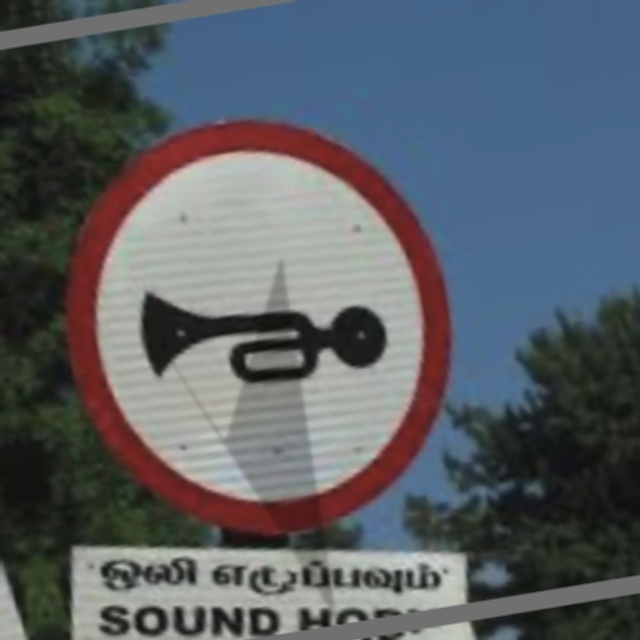Compulsory_Sound_Horn: (66, 103, 473, 525)
